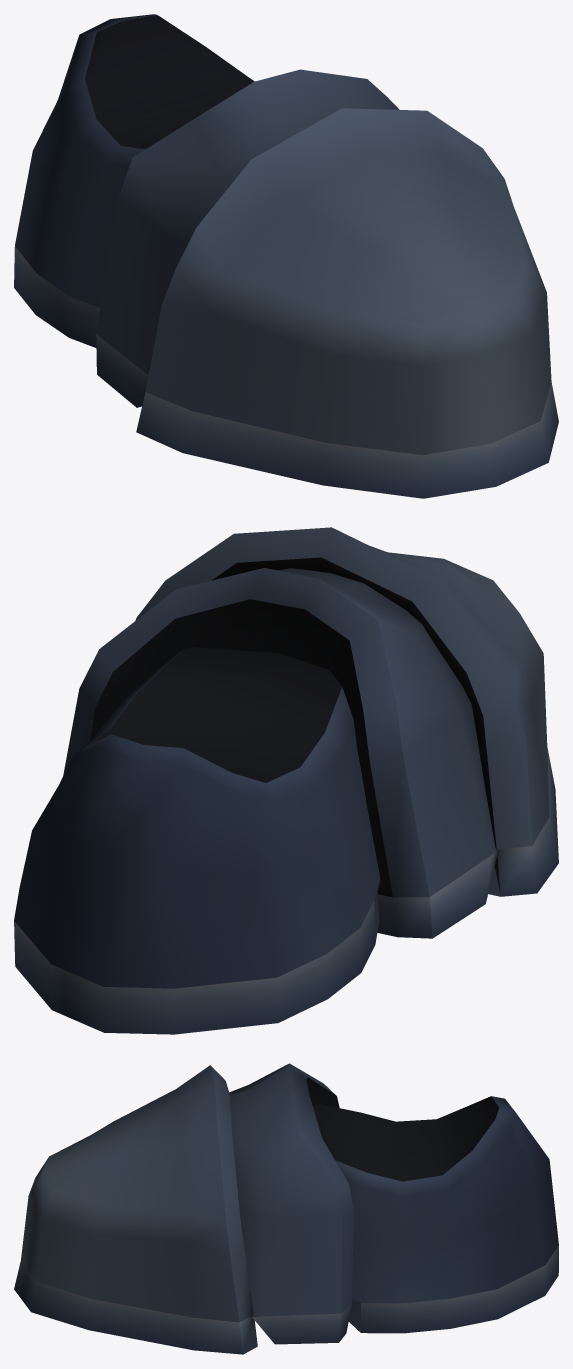
Rendered from Shoes_Armored_Shoes_L.gltf.
3 views of the same model, one above another, from view 1: azimuth 30°, elevation 25°; view 2: azimuth 150°, elevation 25°; view 3: azimuth 270°, elevation 25° (orthographic). The views are drawn at different scales.
Parts seen in each view (by area): view 1: Shoes_Armored_Shoes_L; view 2: Shoes_Armored_Shoes_L; view 3: Shoes_Armored_Shoes_L.
Boxes of the visible parts, x1,y1,x2,y2 form: Shoes_Armored_Shoes_L: (14, 14, 558, 498); Shoes_Armored_Shoes_L: (14, 527, 558, 1034); Shoes_Armored_Shoes_L: (14, 1063, 558, 1354).
Size of the model in its own units: 0.3402 by 0.234 by 0.56.
1 material, 1 textured.
